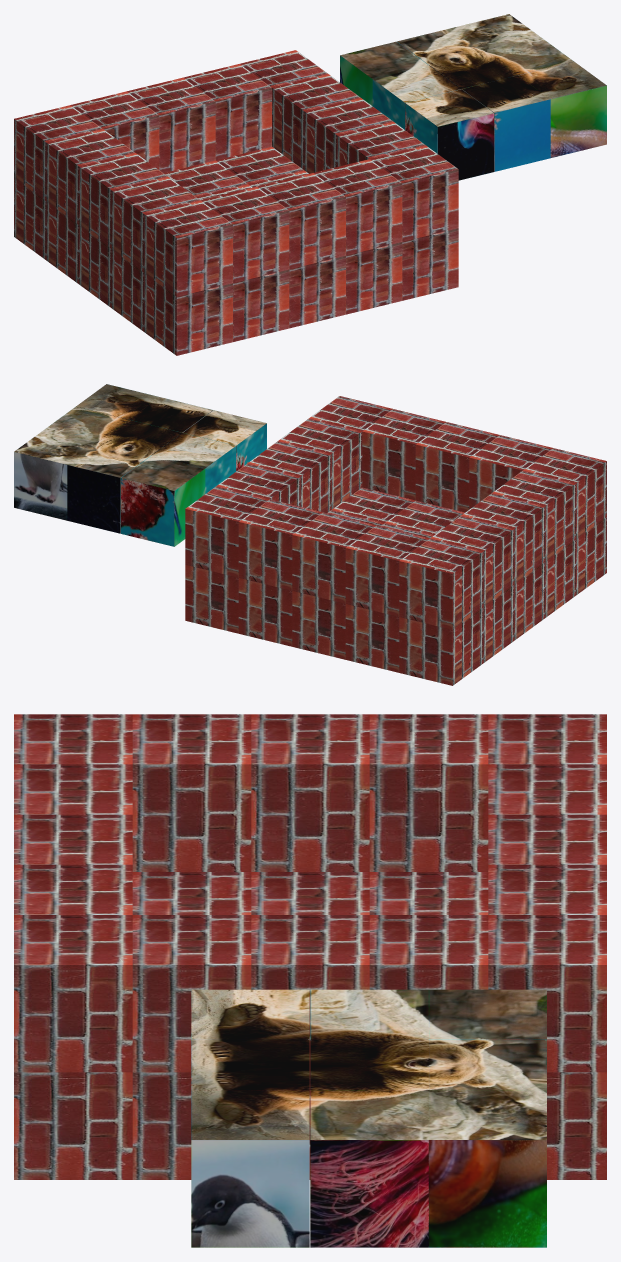
The model's file is Marco.fbx.
The picture shows the model from 3 angles, top to bottom: view 1: azimuth 30°, elevation 25°; view 2: azimuth 150°, elevation 25°; view 3: azimuth 270°, elevation 25°; orthographic projection. The views are drawn at different scales.
Parts seen in each view (by area): view 1: Marco, PiezaG, PiezaH, PiezaI, PiezaD, PiezaA, PiezaE, PiezaF, PiezaB, PiezaC; view 2: Marco, PiezaA, PiezaC, PiezaB, PiezaG, PiezaD, PiezaH, PiezaI, PiezaE, PiezaF; view 3: Marco, PiezaF, PiezaI, PiezaC, PiezaD, PiezaG, PiezaH, PiezaE, PiezaA, PiezaB.
Part boxes in pixels (x1=…): Marco: x1=14, y1=50, x2=458, y2=355; PiezaG: x1=405, y1=89, x2=494, y2=180; PiezaH: x1=462, y1=75, x2=550, y2=171; PiezaI: x1=518, y1=61, x2=606, y2=157; PiezaD: x1=372, y1=65, x2=460, y2=129; PiezaA: x1=340, y1=41, x2=428, y2=105; PiezaE: x1=429, y1=51, x2=517, y2=89; PiezaF: x1=486, y1=38, x2=573, y2=75; PiezaB: x1=397, y1=28, x2=484, y2=64; PiezaC: x1=453, y1=14, x2=541, y2=51; Marco: x1=185, y1=396, x2=606, y2=685; PiezaA: x1=121, y1=455, x2=205, y2=546; PiezaC: x1=14, y1=429, x2=97, y2=520; PiezaB: x1=67, y1=442, x2=151, y2=533; PiezaG: x1=183, y1=410, x2=266, y2=471; PiezaD: x1=152, y1=433, x2=235, y2=493; PiezaH: x1=129, y1=397, x2=212, y2=432; PiezaI: x1=76, y1=384, x2=159, y2=419; PiezaE: x1=98, y1=420, x2=181, y2=455; PiezaF: x1=45, y1=406, x2=128, y2=441; Marco: x1=14, y1=714, x2=606, y2=1179; PiezaF: x1=310, y1=1090, x2=428, y2=1247; PiezaI: x1=191, y1=1090, x2=309, y2=1247; PiezaC: x1=428, y1=1090, x2=546, y2=1247; PiezaD: x1=310, y1=989, x2=428, y2=1039; PiezaG: x1=191, y1=989, x2=309, y2=1039; PiezaH: x1=191, y1=1040, x2=309, y2=1090; PiezaE: x1=310, y1=1040, x2=428, y2=1090; PiezaA: x1=428, y1=989, x2=546, y2=1039; PiezaB: x1=428, y1=1040, x2=546, y2=1090.
Size of the model in its own units: 170 by 40 by 100.
